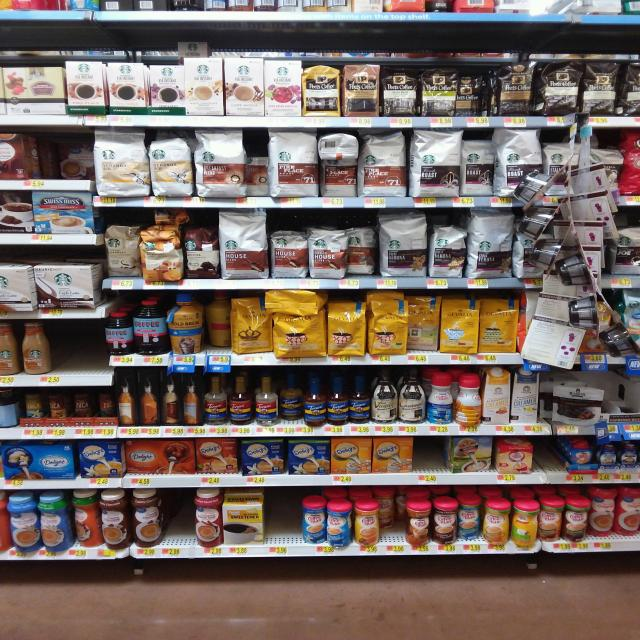void: (55, 320, 105, 374), (266, 485, 300, 546), (415, 435, 446, 472), (535, 435, 565, 473)
